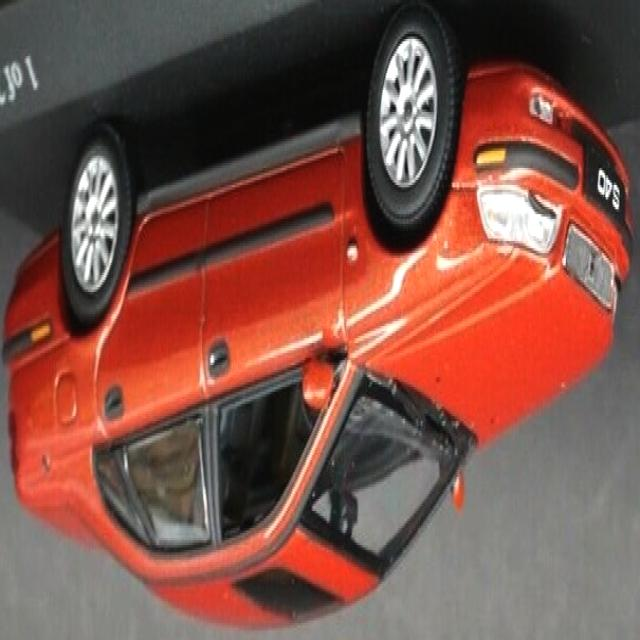red: (0, 60, 639, 628)
